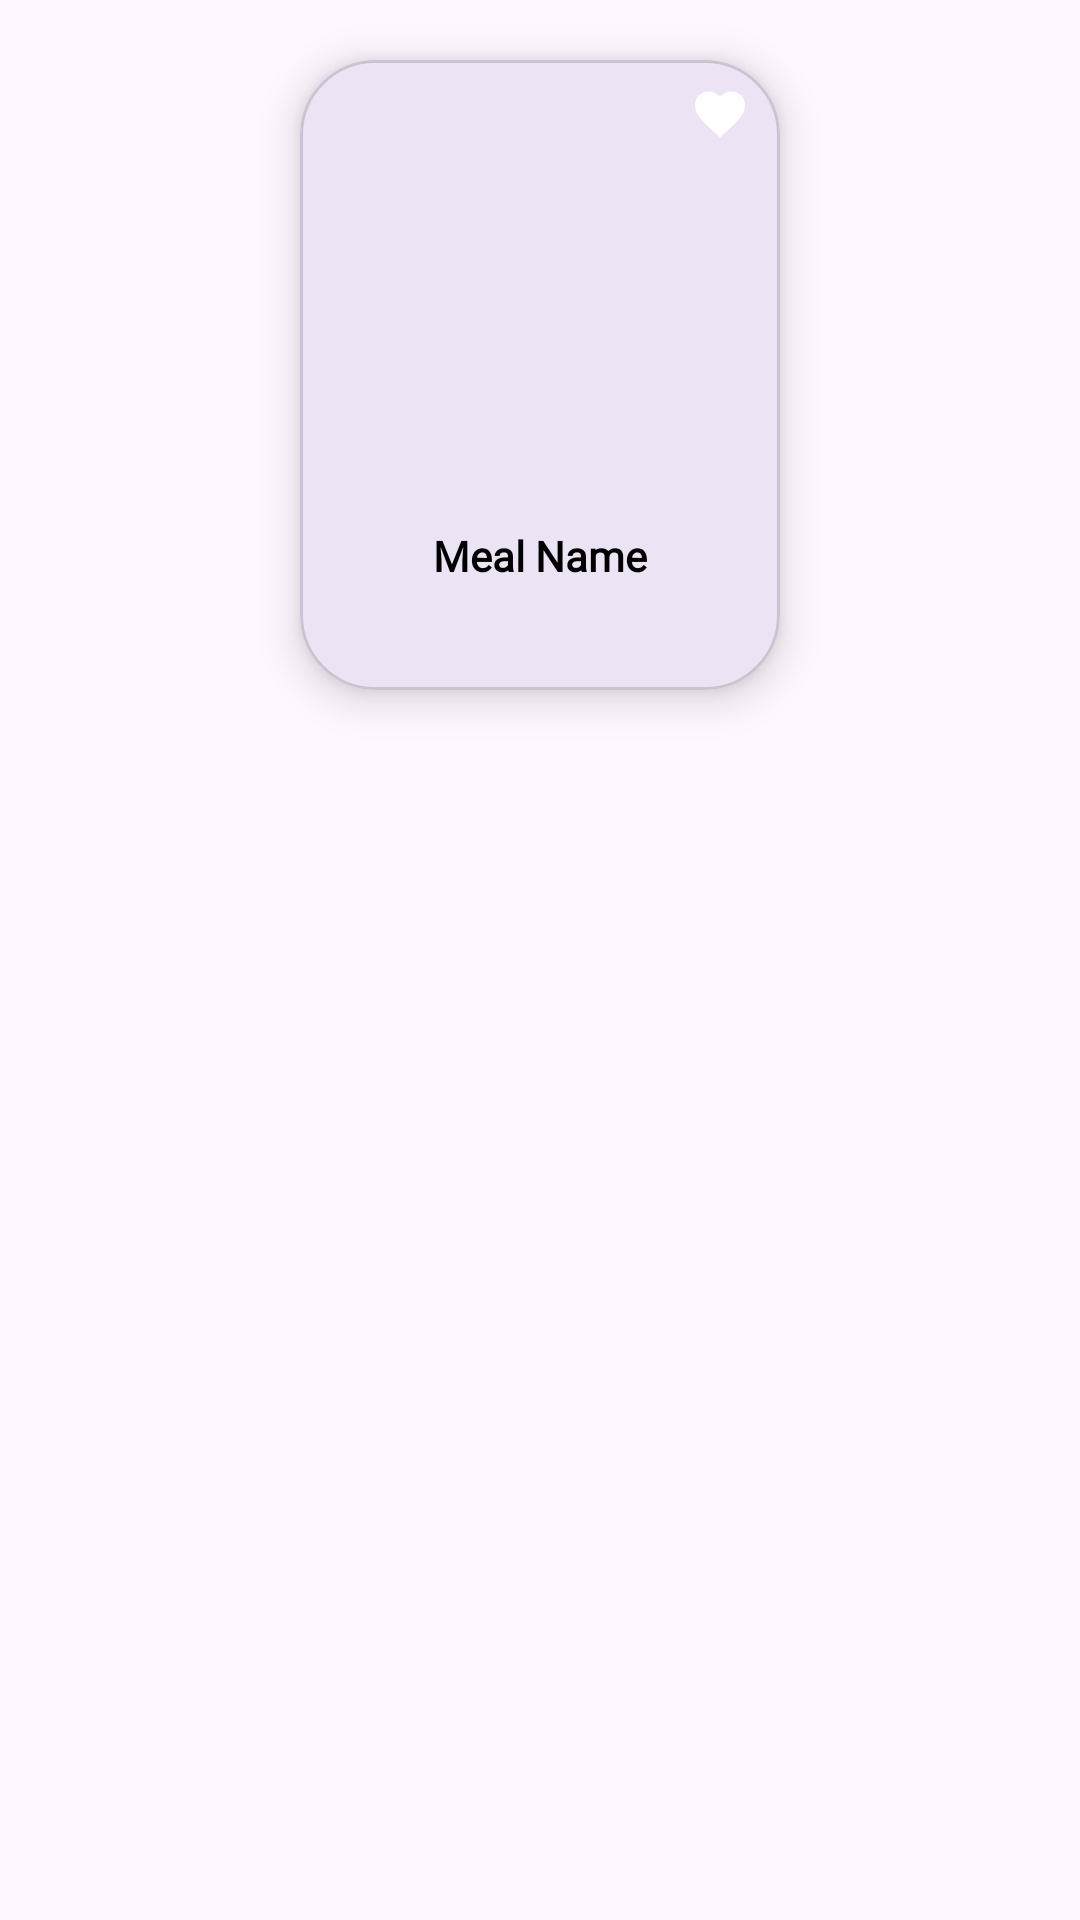

Screen size 1080*1920. Icon name, then its center in pixels as point (x, y):
favorite: point (720, 114)
